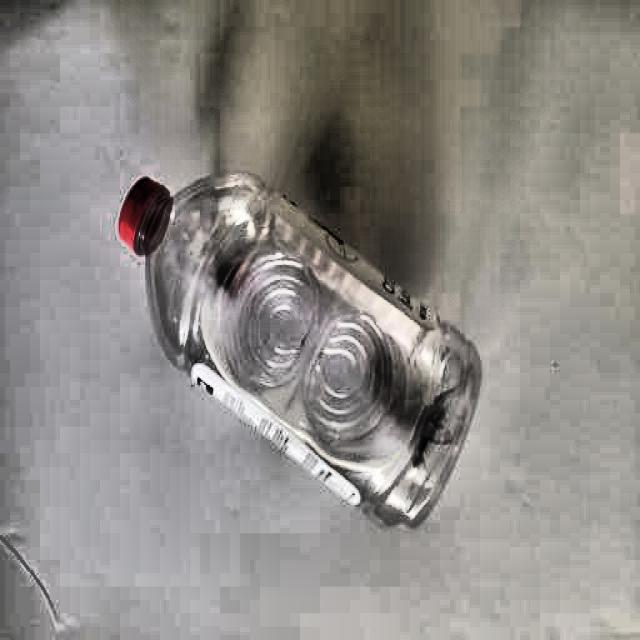plastic: (121, 163, 477, 542)
